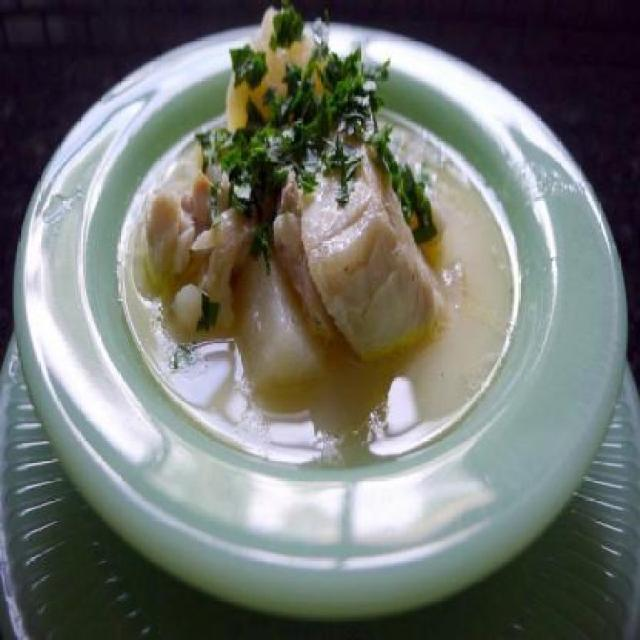Salad: (140, 2, 454, 404)
